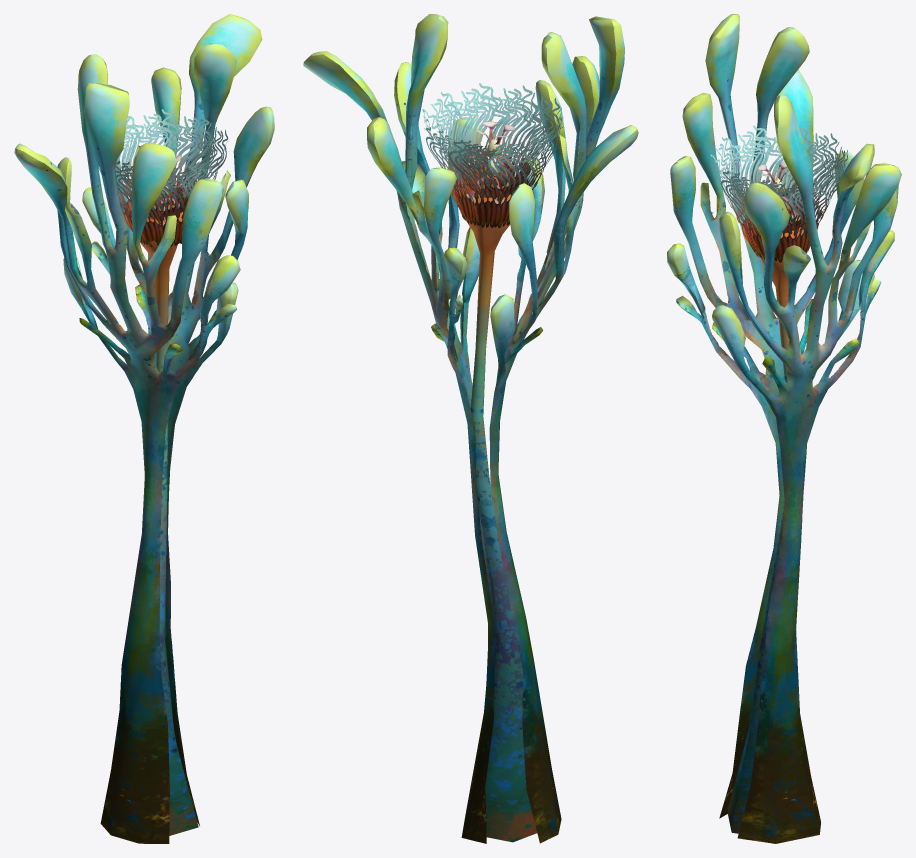
The model's file is alga3.fbx.
3 views of the same model, side by side, from view 1: azimuth 30°, elevation 25°; view 2: azimuth 150°, elevation 25°; view 3: azimuth 270°, elevation 25° (orthographic). The views are drawn at different scales.
Parts seen in each view (by area): view 1: mesh_LOD1_0.017; view 2: mesh_LOD1_0.017; view 3: mesh_LOD1_0.017.
Boxes of the visible parts, x1,y1,x2,y2 form: mesh_LOD1_0.017: [14, 14, 274, 843]; mesh_LOD1_0.017: [303, 14, 638, 843]; mesh_LOD1_0.017: [667, 14, 901, 843].
Bounding box in the file's own units: 1.27 × 3.34 × 0.9197.
Materials: 2 (2 with a texture image).
